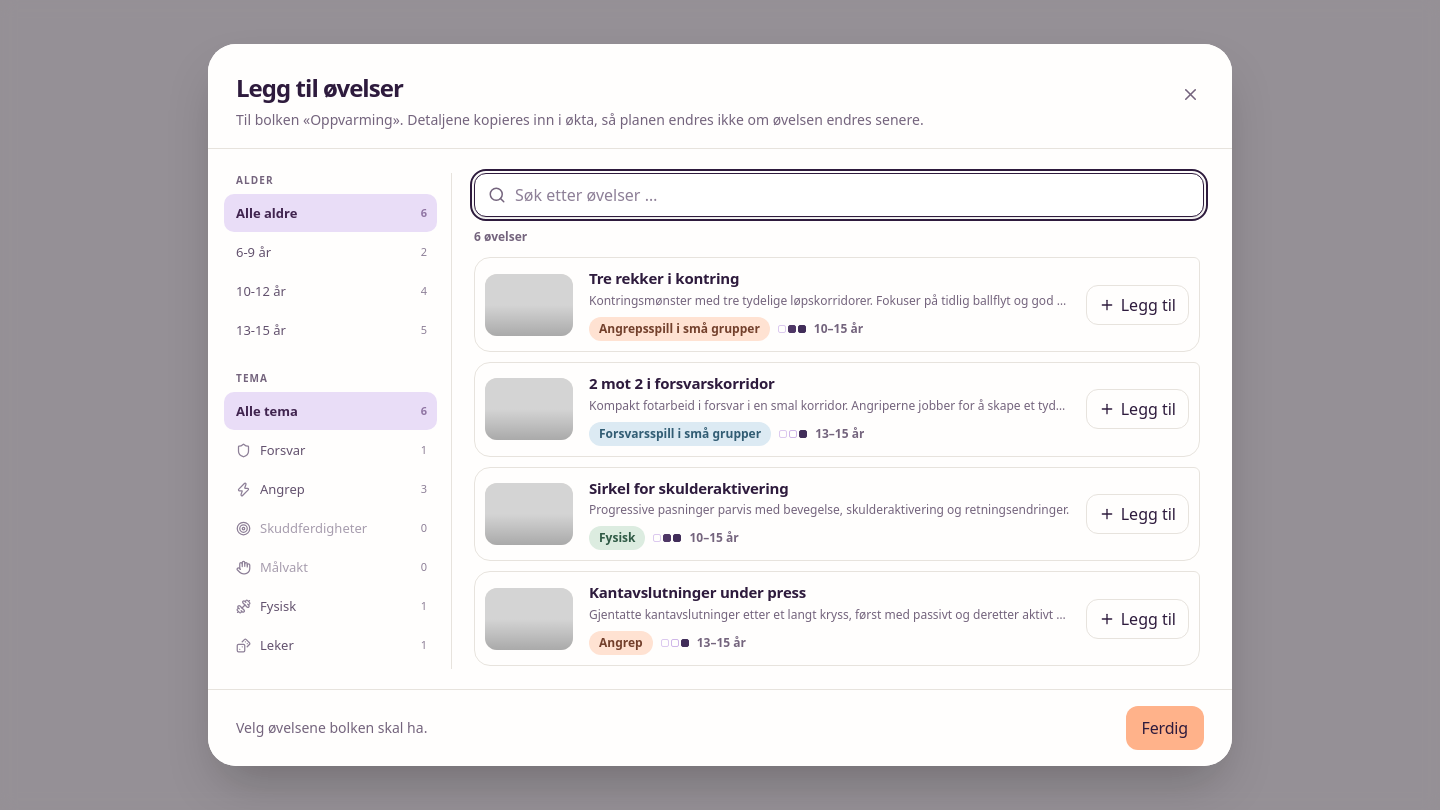
ExercisePicker › keeps the dialog open after adding, and says what was added
Later steps or results of the test are not shown.
Click the button with aria-label "Legg Tre rekker i kontring til i bolken" at (1137, 305), box [1086,285,1189,325]
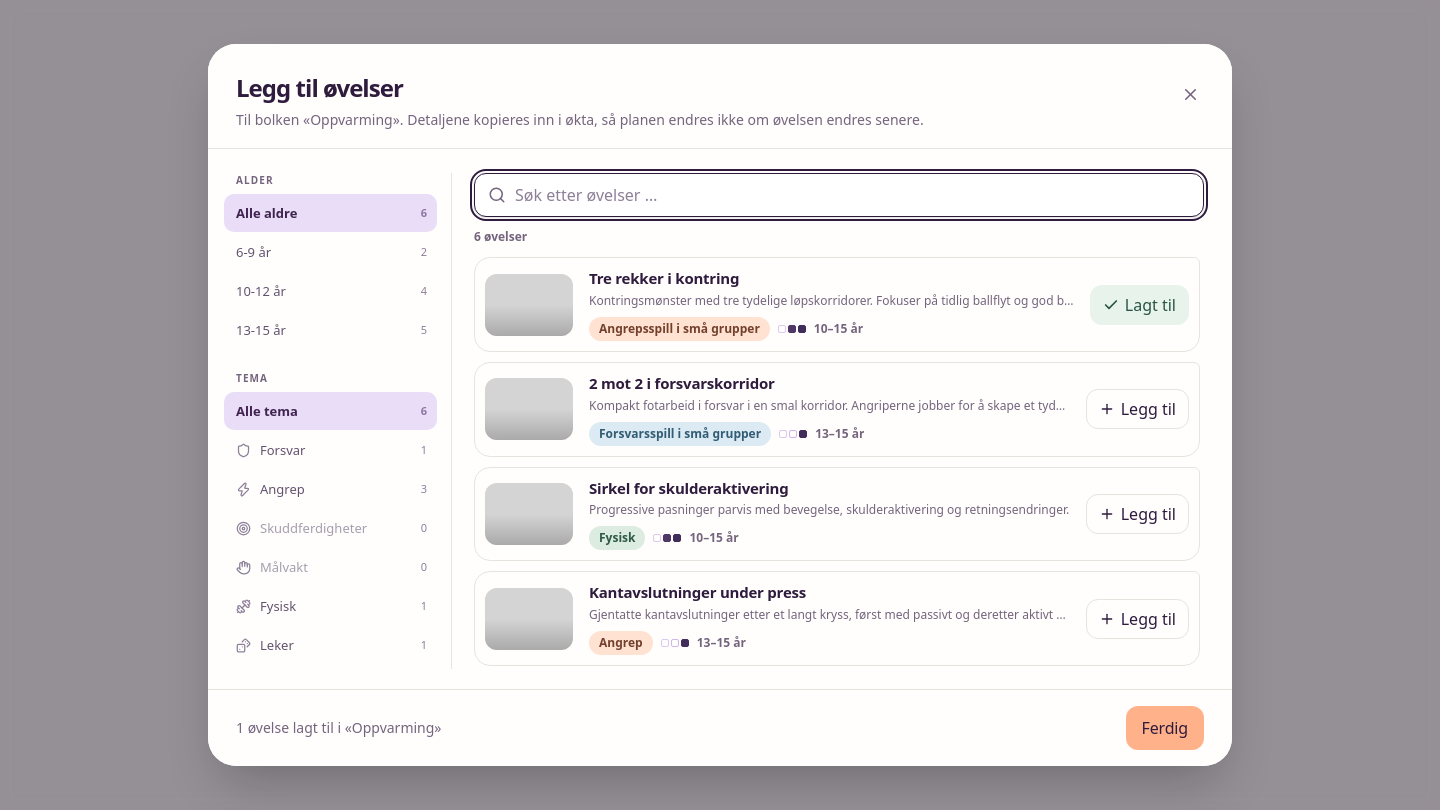
Result: the button with aria-label "Legg Tre rekker i kontring til i bolken en gang til" reads "Lagt til" at [1090,285,1189,325]
Result: the text "1 øvelse lagt til i «Oppvarming»" is shown at [236,718,442,738]
